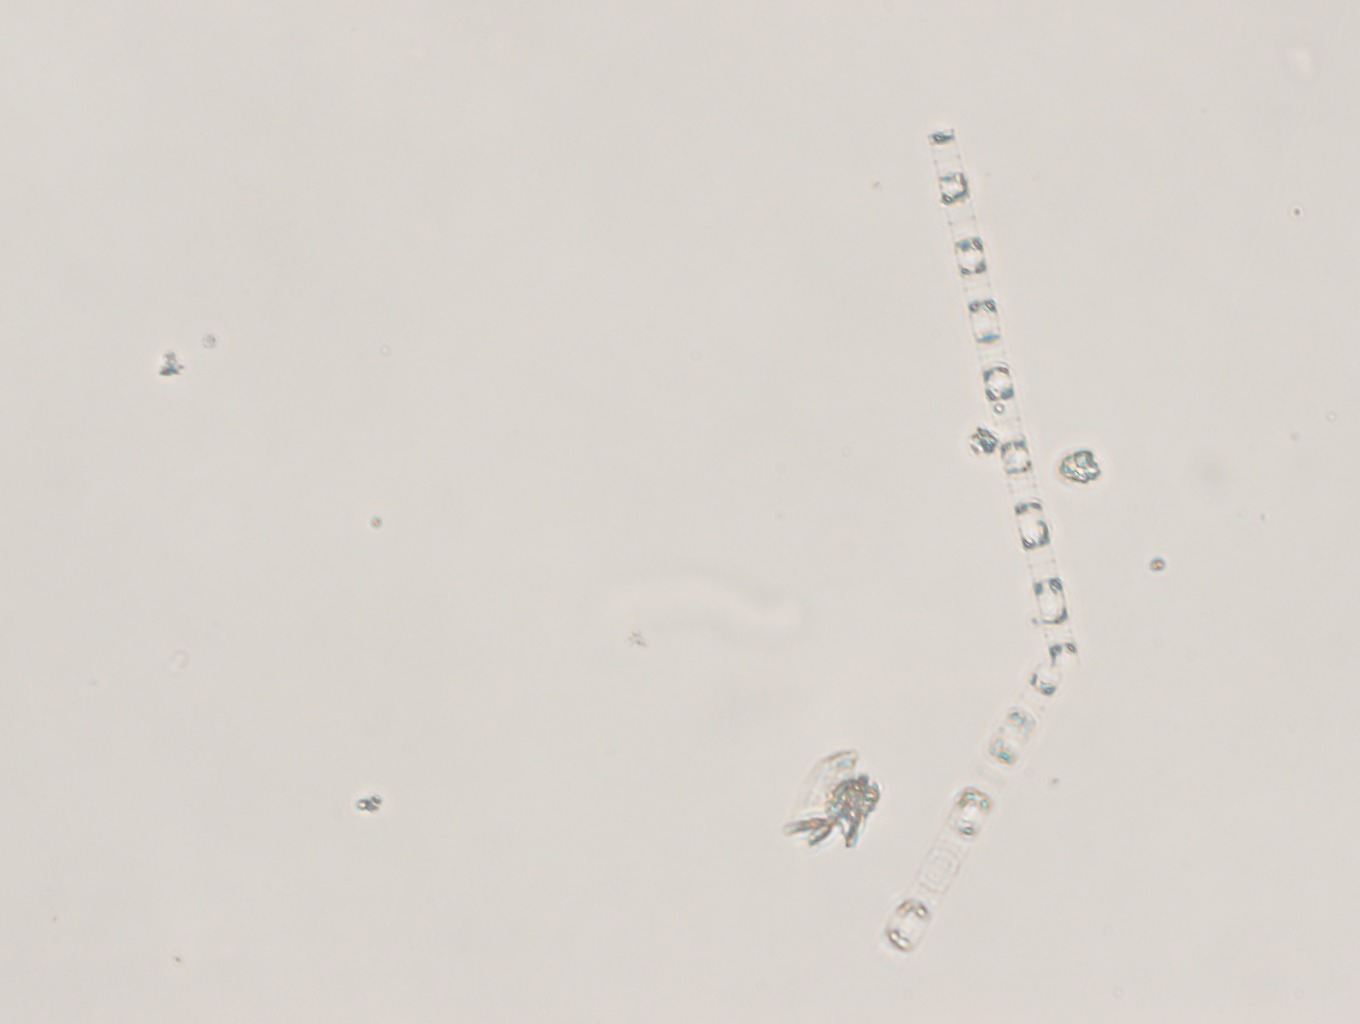skeletonema: (870, 127, 1083, 963)
